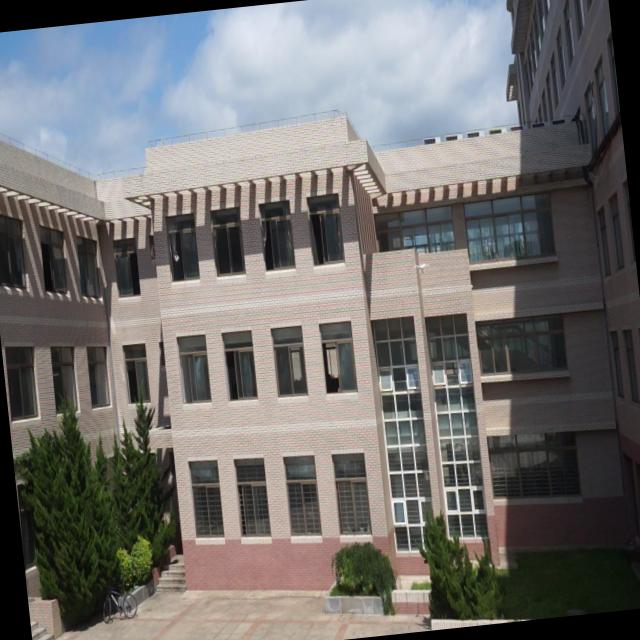drone: (412, 257, 431, 277)
